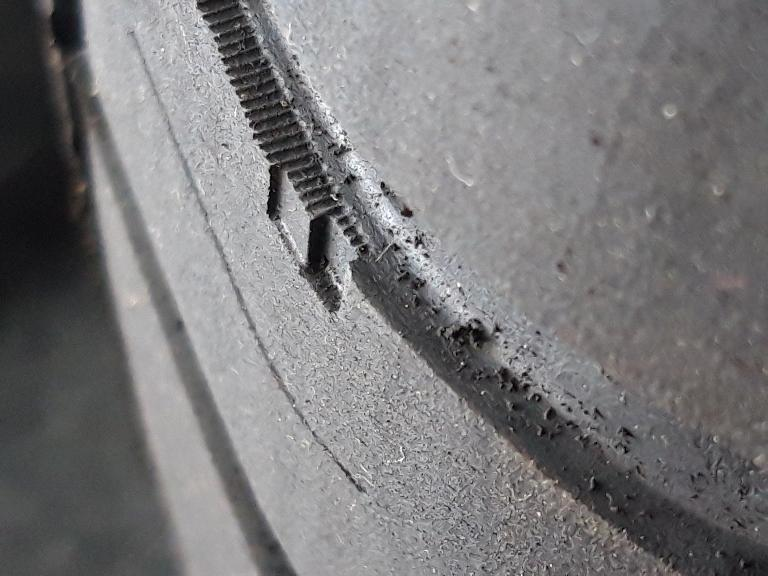temoin:25: (254, 145, 394, 326)
